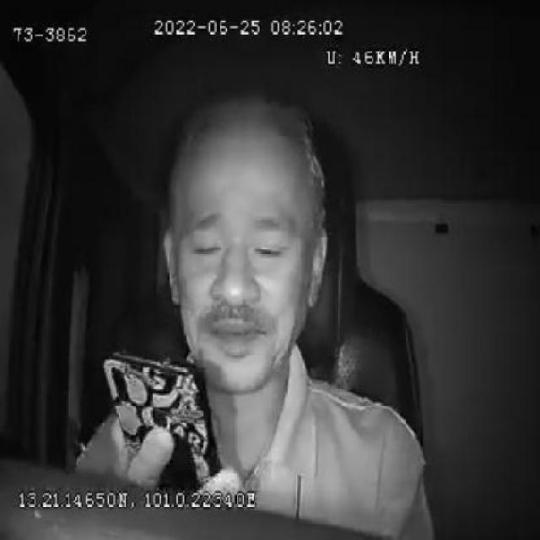phone: (95, 350, 258, 493)
